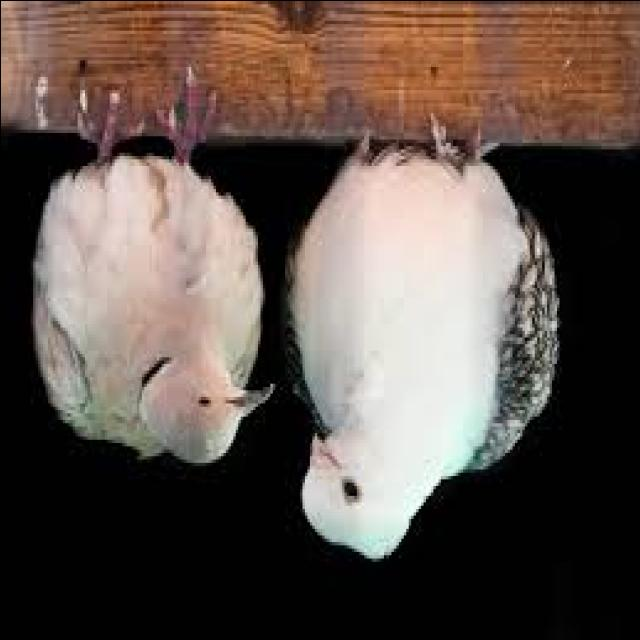pigeon: (284, 104, 572, 580)
